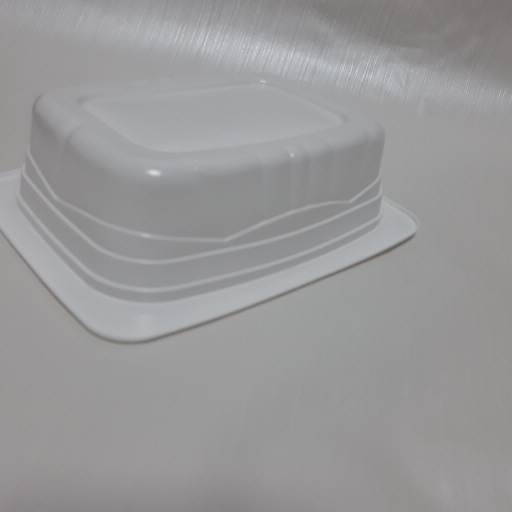Plastic_4: (1, 77, 419, 343)
